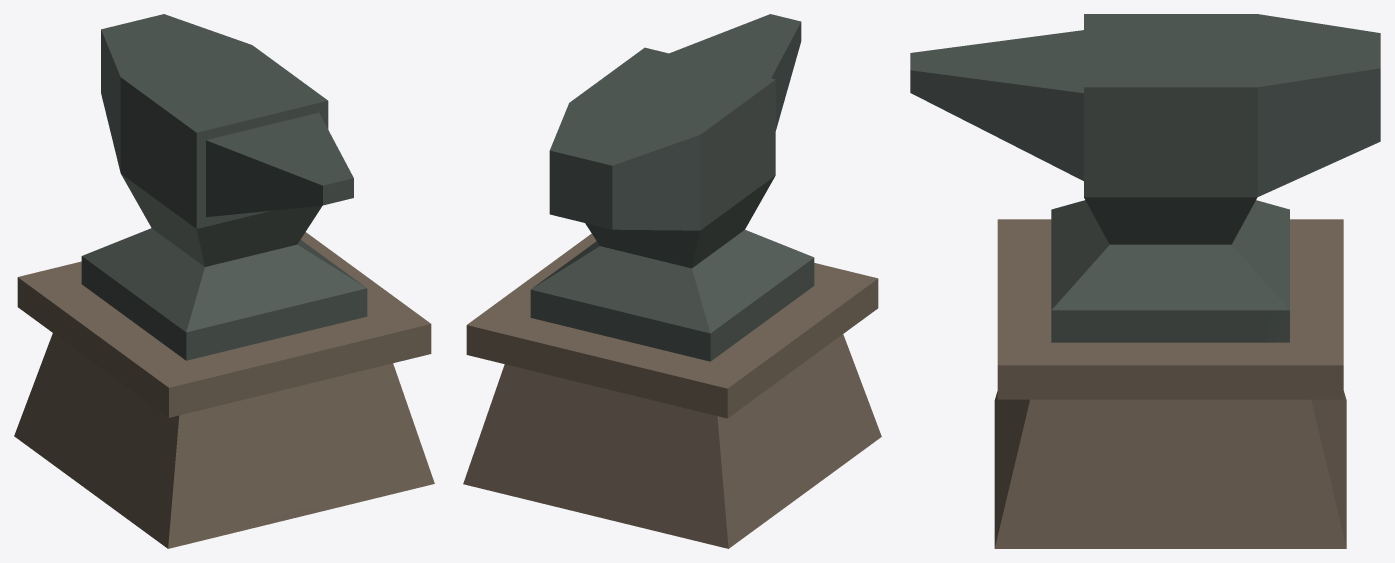
Rendered from Blacksmith.glb.
3 views of the same model, side by side, from view 1: azimuth 30°, elevation 25°; view 2: azimuth 150°, elevation 25°; view 3: azimuth 270°, elevation 25° (orthographic). The views are drawn at different scales.
Parts seen in each view (by area): view 1: Cube.314; view 2: Cube.314; view 3: Cube.314.
Boxes of the visible parts, x1,y1,x2,y2 form: Cube.314: [14, 14, 434, 548]; Cube.314: [463, 14, 881, 548]; Cube.314: [910, 14, 1380, 548].
Bounding box in the file's own units: 0.5027 × 0.668 × 0.6716.
1 material, 1 textured.
